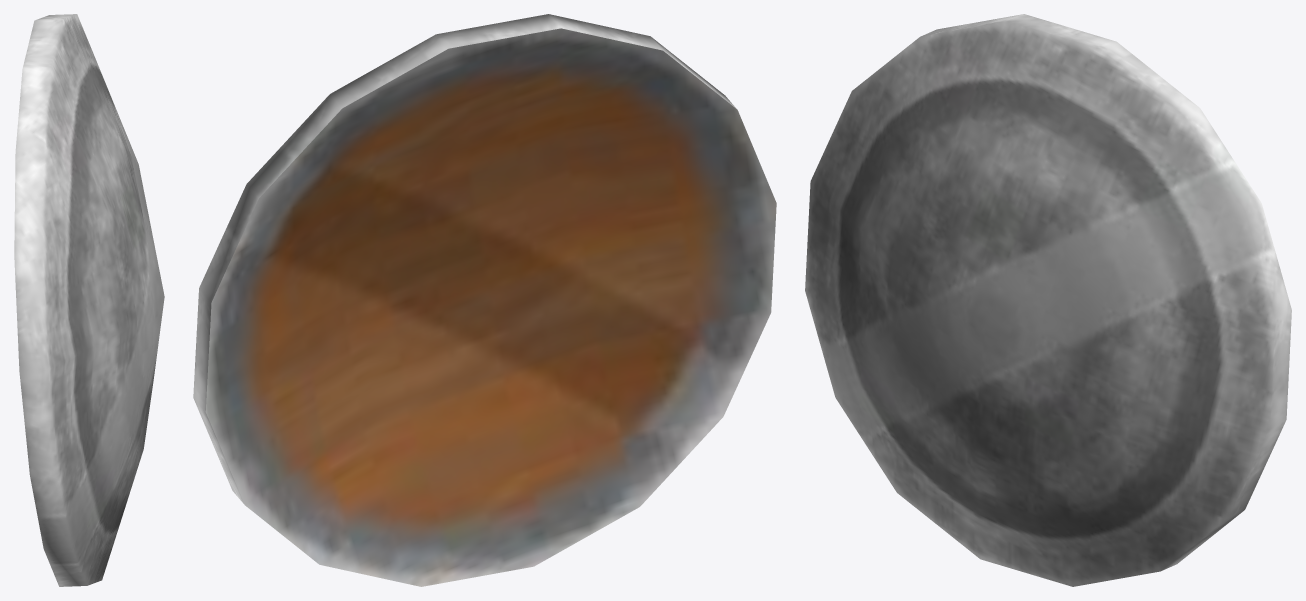
File: shield-coppershields.glb
The picture shows the model from 3 angles, left to right: view 1: azimuth 30°, elevation 25°; view 2: azimuth 150°, elevation 25°; view 3: azimuth 270°, elevation 25°; orthographic projection. The views are drawn at different scales.
Size of the model in its own units: 0.348 by 0.5422 by 0.4582.
Materials: 1 (1 with a texture image).
